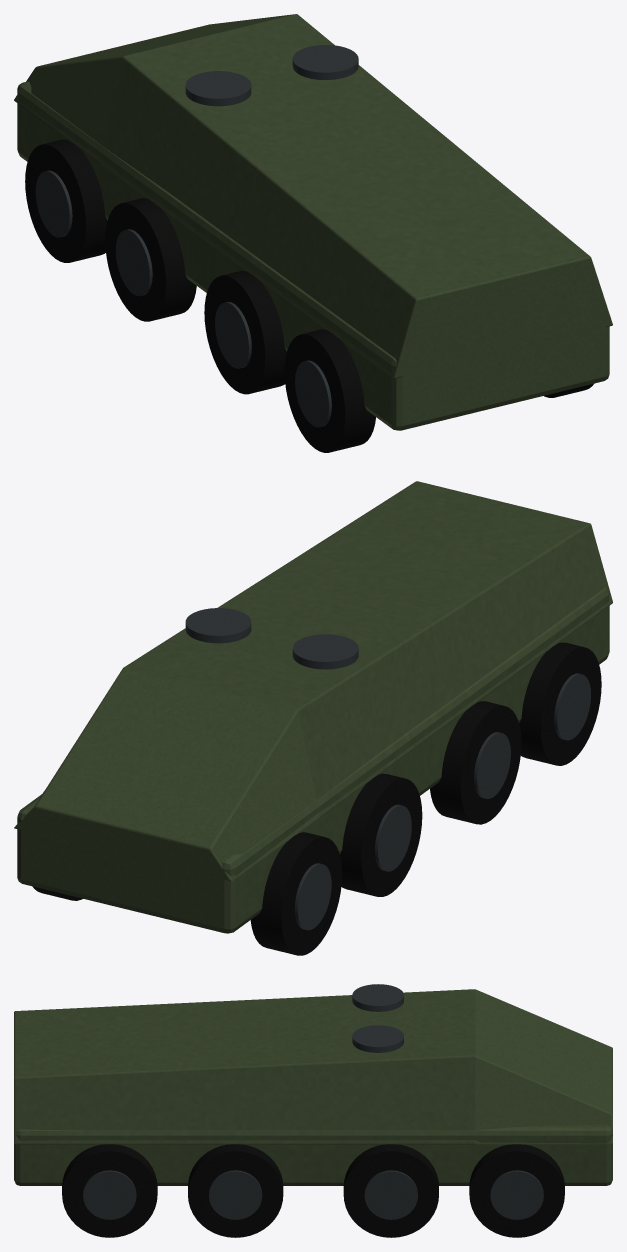
3 renders of one model, top to bottom at view 1: azimuth 30°, elevation 25°; view 2: azimuth 150°, elevation 25°; view 3: azimuth 270°, elevation 25°, orthographic. The views are drawn at different scales.
Visible parts, largest first — view 1: Upper hull, Lower hull, Tire.002, Tire, Tire.001, Tire.003, Roof hatch, Roof hatch.001, Wheel rim.003, Wheel rim.002, Wheel rim.001, Wheel rim; view 2: Upper hull, Lower hull, Tire.001, Tire.003, Tire, Tire.002, Roof hatch, Roof hatch.001, Wheel rim.003, Wheel rim.002, Wheel rim, Wheel rim.001; view 3: Upper hull, Lower hull, Tire.004, Tire.007, Tire.005, Tire.006, Wheel rim.004, Wheel rim.007, Wheel rim.005, Wheel rim.006, Roof hatch, Roof hatch.001.
Boxes of the visible parts, left/top/right/bottom form: Upper hull: left=14, top=14, right=612, bottom=378; Lower hull: left=17, top=81, right=609, bottom=430; Tire.002: left=105, top=198, right=196, bottom=321; Tire: left=284, top=329, right=375, bottom=452; Tire.001: left=204, top=271, right=286, bottom=394; Tire.003: left=25, top=139, right=107, bottom=262; Roof hatch: left=185, top=71, right=251, bottom=106; Roof hatch.001: left=292, top=45, right=358, bottom=79; Wheel rim.003: left=35, top=170, right=72, bottom=237; Wheel rim.002: left=115, top=229, right=152, bottom=296; Wheel rim.001: left=215, top=301, right=251, bottom=368; Wheel rim: left=295, top=360, right=331, bottom=427; Upper hull: left=14, top=481, right=612, bottom=881; Lower hull: left=17, top=587, right=609, bottom=933; Tire.001: left=430, top=701, right=521, bottom=824; Tire.003: left=250, top=832, right=342, bottom=955; Tire: left=519, top=642, right=601, bottom=765; Tire.002: left=340, top=773, right=422, bottom=896; Roof hatch: left=292, top=634, right=358, bottom=669; Roof hatch.001: left=185, top=608, right=251, bottom=643; Wheel rim.003: left=294, top=863, right=331, bottom=930; Wheel rim.002: left=375, top=804, right=411, bottom=871; Wheel rim: left=554, top=673, right=590, bottom=740; Wheel rim.001: left=474, top=732, right=510, bottom=798; Upper hull: left=14, top=989, right=612, bottom=1144; Lower hull: left=14, top=1124, right=612, bottom=1185; Tire.004: left=62, top=1144, right=157, bottom=1237; Tire.007: left=469, top=1144, right=564, bottom=1237; Tire.005: left=188, top=1144, right=283, bottom=1237; Tire.006: left=343, top=1144, right=438, bottom=1237; Wheel rim.004: left=83, top=1170, right=136, bottom=1219; Wheel rim.007: left=490, top=1170, right=543, bottom=1219; Wheel rim.005: left=209, top=1170, right=262, bottom=1219; Wheel rim.006: left=364, top=1170, right=417, bottom=1219; Roof hatch: left=352, top=984, right=403, bottom=1011; Roof hatch.001: left=352, top=1025, right=403, bottom=1052.
Size of the model in its own units: 2.94 by 2.36 by 7.4.
3 materials, 3 textured.
